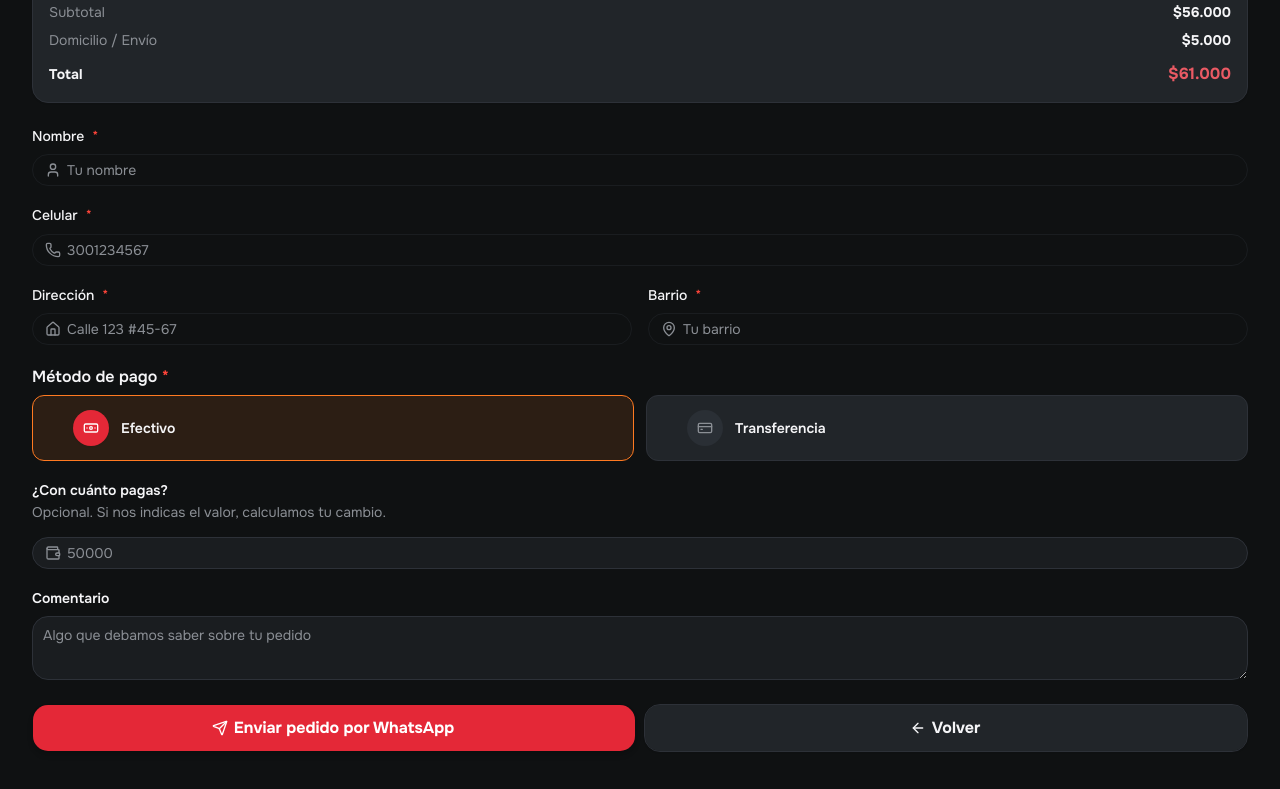
CheckoutForm - Direct Sale Flow › field errors › shows the icon and message only under the invalid fields after a failed submit
(page scrolled)
What coordinates should you click on to do the following:
click the button "Enviar pedido por WhatsApp"
I would click on:
 (334, 728)
Its box is 32,704 -> 636,752.
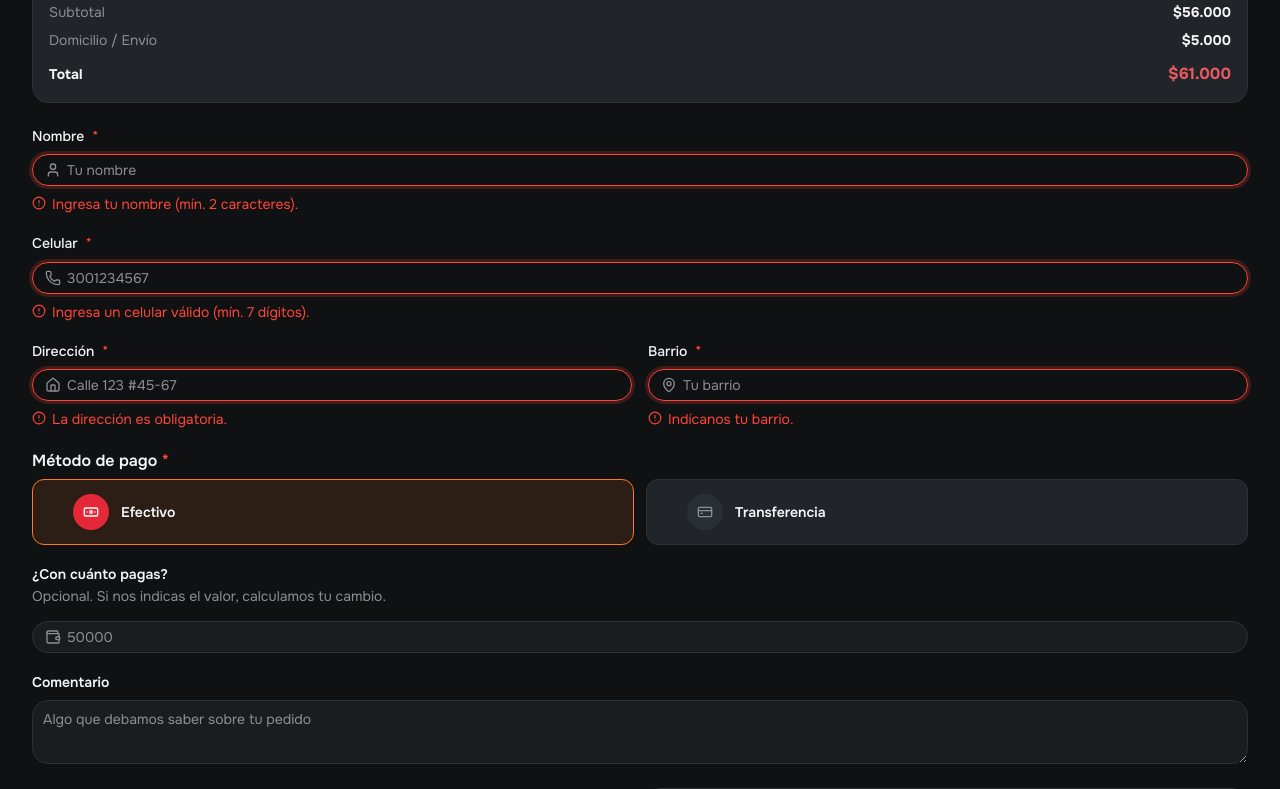
Result: the message "Ingresa tu nombre (mín. 2 caracteres)." is shown at 32,195 -> 298,213
